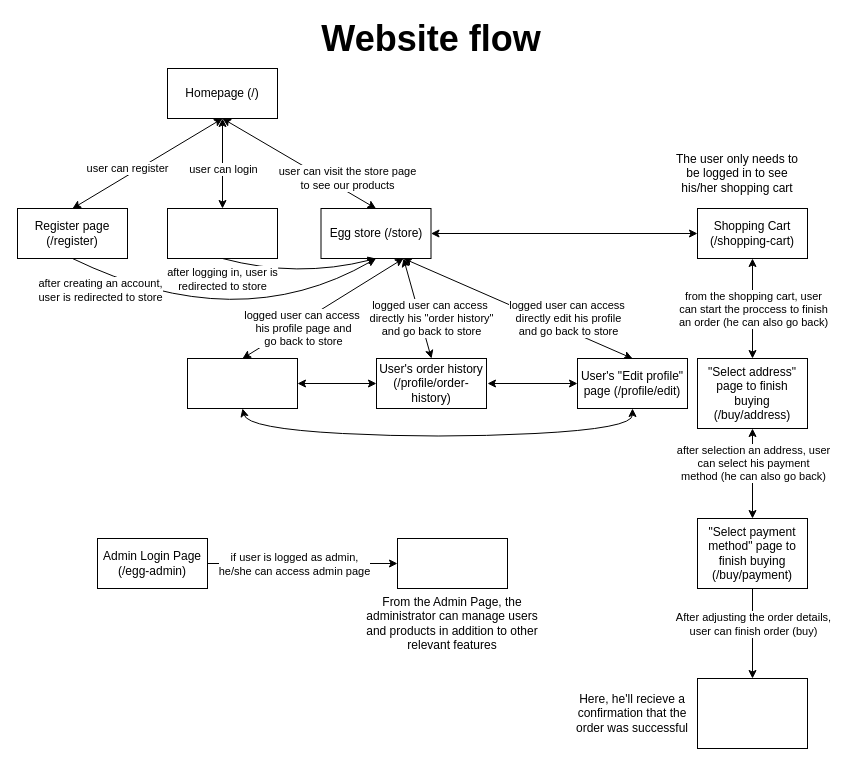
This 848x766 diagram has some shape labels left out. The box of each missing label's shape, as (x1, y1, x2, y2) in pixels:
Admin Page (/egg-admin): (396, 538, 508, 588)
Confirm order details and buy (/buy/finish): (696, 678, 808, 748)
Login page (/login): (166, 208, 278, 258)
User's profile page (/profile): (186, 358, 298, 408)
